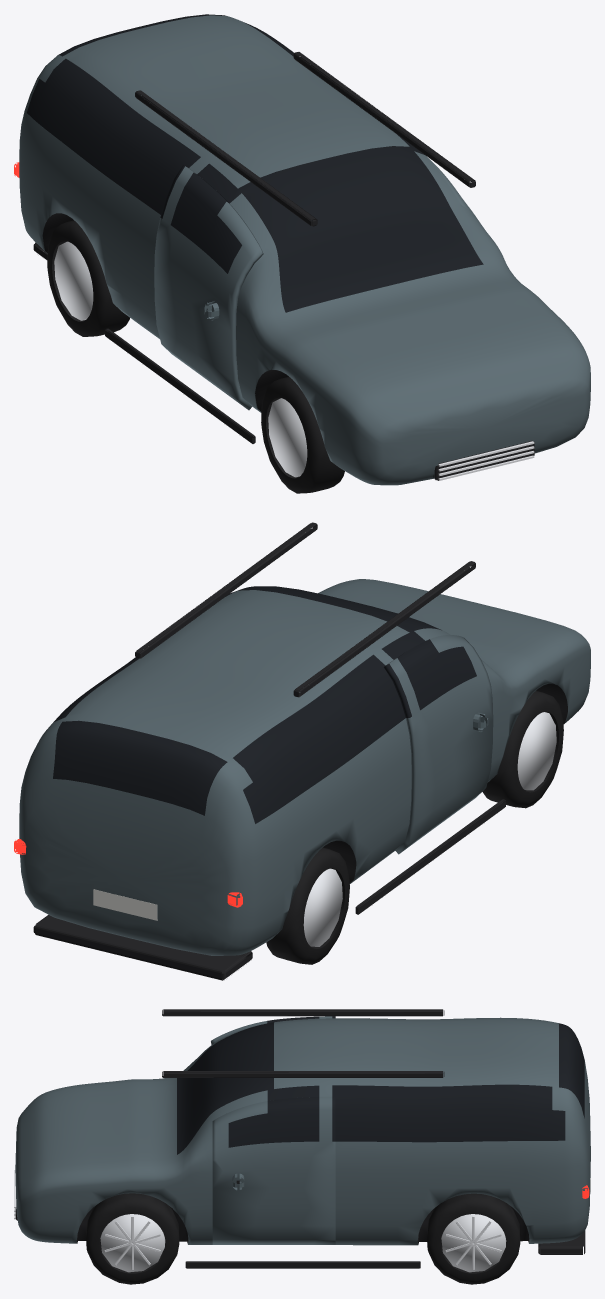
File: atlas.glb
The picture shows the model from 3 angles, top to bottom: view 1: azimuth 30°, elevation 25°; view 2: azimuth 150°, elevation 25°; view 3: azimuth 270°, elevation 25°; orthographic projection. The views are drawn at different scales.
Visible parts, largest first — view 1: body, door_R, tire.001, tire.003, rim.001, rim.003, rail.001, rail, skirt.001, grille; view 2: body, door_R, diffuser, tire.003, tire.001, rim.001, rim.003, rail.001, rail, skirt.001, plate; view 3: body, door_L, tire, tire.002, rim.002, rim, rail.001, rail, skirt, diffuser, door_R.
Part boxes in pixels (left/top/right/bottom): body: left=19, top=14, right=590, bottom=485; door_R: left=154, top=165, right=263, bottom=410; tire.001: left=261, top=376, right=344, bottom=493; tire.003: left=47, top=220, right=129, bottom=336; rim.001: left=268, top=398, right=307, bottom=477; rim.003: left=54, top=241, right=93, bottom=320; rail.001: left=135, top=90, right=317, bottom=226; rail: left=293, top=52, right=475, bottom=187; skirt.001: left=105, top=328, right=255, bottom=443; grille: left=433, top=440, right=534, bottom=480; body: left=19, top=579, right=590, bottom=955; door_R: left=384, top=635, right=493, bottom=854; diffuser: left=33, top=914, right=252, bottom=980; tire.003: left=266, top=847, right=349, bottom=964; tire.001: left=482, top=691, right=563, bottom=808; rim.001: left=517, top=712, right=556, bottom=790; rim.003: left=303, top=868, right=342, bottom=946; rail.001: left=293, top=561, right=475, bottom=697; rail: left=135, top=522, right=317, bottom=658; skirt.001: left=355, top=799, right=505, bottom=914; plate: left=93, top=889, right=157, bottom=920; body: left=15, top=1017, right=590, bottom=1245; door_L: left=212, top=1096, right=335, bottom=1244; tire: left=86, top=1193, right=179, bottom=1284; tire.002: left=427, top=1193, right=520, bottom=1284; rim.002: left=441, top=1214, right=506, bottom=1272; rim: left=100, top=1214, right=165, bottom=1272; rail.001: left=162, top=1009, right=444, bottom=1016; rail: left=162, top=1071, right=444, bottom=1077; skirt: left=185, top=1261, right=420, bottom=1268; diffuser: left=538, top=1231, right=585, bottom=1254; door_R: left=211, top=1016, right=335, bottom=1097.
Size of what is drawn, in the model's own units: 2.2 by 1.84 by 4.91.
